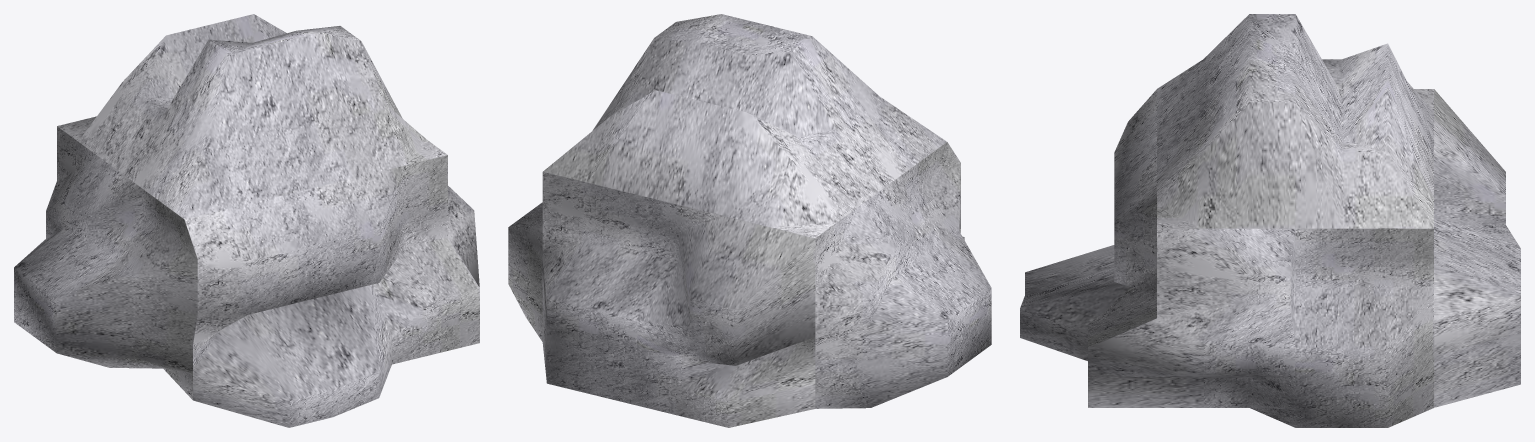
Rendered from Stone.FBX.
3 renders of one model, left to right at view 1: azimuth 30°, elevation 25°; view 2: azimuth 150°, elevation 25°; view 3: azimuth 270°, elevation 25°, orthographic. The views are drawn at different scales.
Parts seen in each view (by area): view 1: Box001; view 2: Box001; view 3: Box001.
Boxes of the visible parts, x1,y1,x2,y2 form: Box001: [14, 14, 479, 427]; Box001: [508, 14, 991, 427]; Box001: [1020, 14, 1520, 427].
Size of the model in its own units: 75.19 by 51.05 by 74.35.
Materials: 1 (1 with a texture image).
